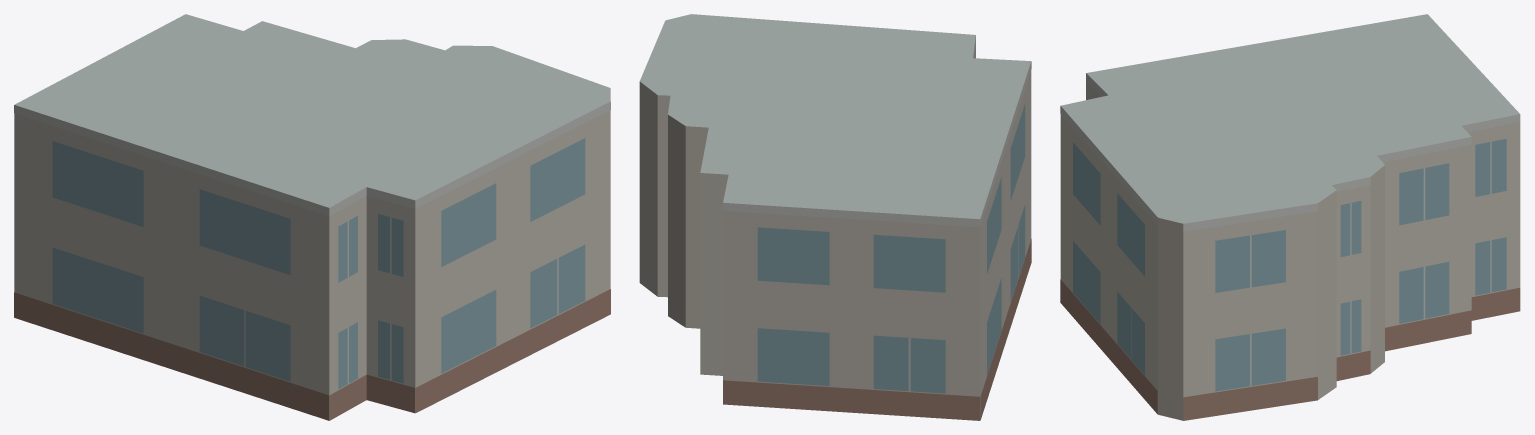
Rendered from survey-upis-32576379.glb.
3 views of the same model, side by side, from view 1: azimuth 30°, elevation 25°; view 2: azimuth 150°, elevation 25°; view 3: azimuth 270°, elevation 25° (orthographic). The views are drawn at different scales.
Parts seen in each view (by area): view 1: survey-upis-32576379.tmp; view 2: survey-upis-32576379.tmp; view 3: survey-upis-32576379.tmp.
Boxes of the visible parts, x1,y1,x2,y2 form: survey-upis-32576379.tmp: (14, 14, 610, 420); survey-upis-32576379.tmp: (639, 14, 1031, 420); survey-upis-32576379.tmp: (1060, 14, 1520, 420).
Bounding box in the file's own units: 13.94 × 6.1 × 12.91.
